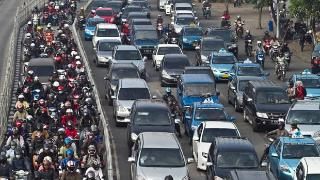mobil: (245, 81, 291, 133), (128, 102, 176, 150), (114, 78, 156, 124), (186, 100, 234, 136), (107, 64, 141, 104), (111, 45, 149, 77), (161, 54, 191, 88), (206, 52, 238, 80)
motor: (280, 43, 294, 68), (235, 14, 248, 40), (254, 40, 266, 68), (275, 55, 287, 81), (244, 31, 256, 56), (272, 37, 280, 61)
